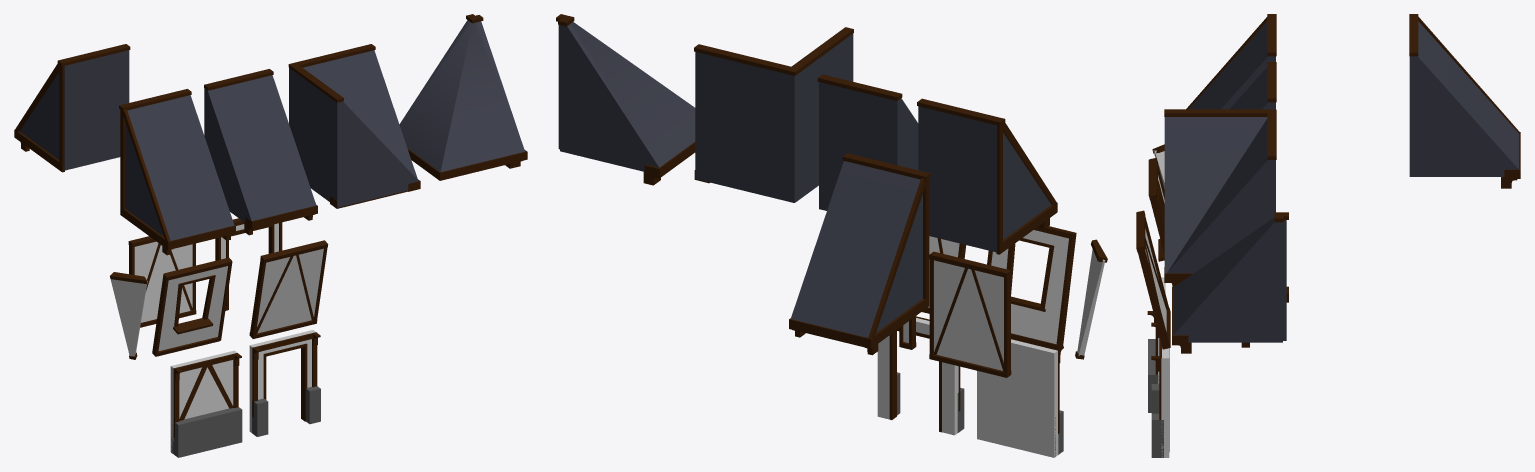
The picture shows the model from 3 angles, left to right: view 1: azimuth 30°, elevation 25°; view 2: azimuth 150°, elevation 25°; view 3: azimuth 270°, elevation 25°; orthographic projection. The views are drawn at different scales.
Visible parts, largest first — view 1: polySurface114, polySurface90, polySurface102, polySurface117, polySurface99, polySurface68, polySurface34, polySurface37, pCube76, polySurface75, pCube80, polySurface81; view 2: polySurface99, polySurface114, polySurface90, polySurface117, polySurface75, polySurface102, polySurface68, polySurface37, pCube76, pCube80, polySurface34; view 3: polySurface114, polySurface99, polySurface117, polySurface90, polySurface34, pCube76, polySurface102, polySurface37, polySurface68.
Boxes of the visible parts, x1=… form: polySurface114: x1=288, y1=44, x2=420, y2=208; polySurface90: x1=119, y1=89, x2=235, y2=255; polySurface102: x1=204, y1=69, x2=317, y2=235; polySurface117: x1=399, y1=14, x2=527, y2=180; polySurface99: x1=14, y1=44, x2=130, y2=172; polySurface68: x1=170, y1=350, x2=242, y2=457; polySurface34: x1=249, y1=240, x2=328, y2=338; polySurface37: x1=152, y1=257, x2=232, y2=356; pCube76: x1=249, y1=330, x2=320, y2=436; polySurface75: x1=128, y1=236, x2=196, y2=327; pCube80: x1=110, y1=272, x2=147, y2=359; polySurface81: x1=215, y1=218, x2=282, y2=310; polySurface99: x1=789, y1=153, x2=930, y2=355; polySurface114: x1=694, y1=27, x2=853, y2=202; polySurface90: x1=917, y1=98, x2=1057, y2=254; polySurface117: x1=556, y1=14, x2=695, y2=185; polySurface75: x1=929, y1=251, x2=1011, y2=377; polySurface102: x1=817, y1=74, x2=918, y2=210; polySurface68: x1=977, y1=339, x2=1063, y2=457; polySurface37: x1=987, y1=226, x2=1076, y2=350; pCube76: x1=877, y1=316, x2=964, y2=435; pCube80: x1=1075, y1=239, x2=1107, y2=359; polySurface34: x1=922, y1=236, x2=966, y2=313; polySurface114: x1=1164, y1=109, x2=1276, y2=282; polySurface99: x1=1409, y1=14, x2=1520, y2=188; polySurface117: x1=1172, y1=212, x2=1288, y2=353; polySurface90: x1=1186, y1=14, x2=1276, y2=109; polySurface34: x1=1136, y1=210, x2=1170, y2=349; pCube76: x1=1151, y1=322, x2=1169, y2=457; polySurface102: x1=1230, y1=62, x2=1276, y2=109; polySurface37: x1=1148, y1=158, x2=1179, y2=286; polySurface68: x1=1147, y1=277, x2=1165, y2=412.
Bounding box in the file's own units: 196 × 142 × 137.
